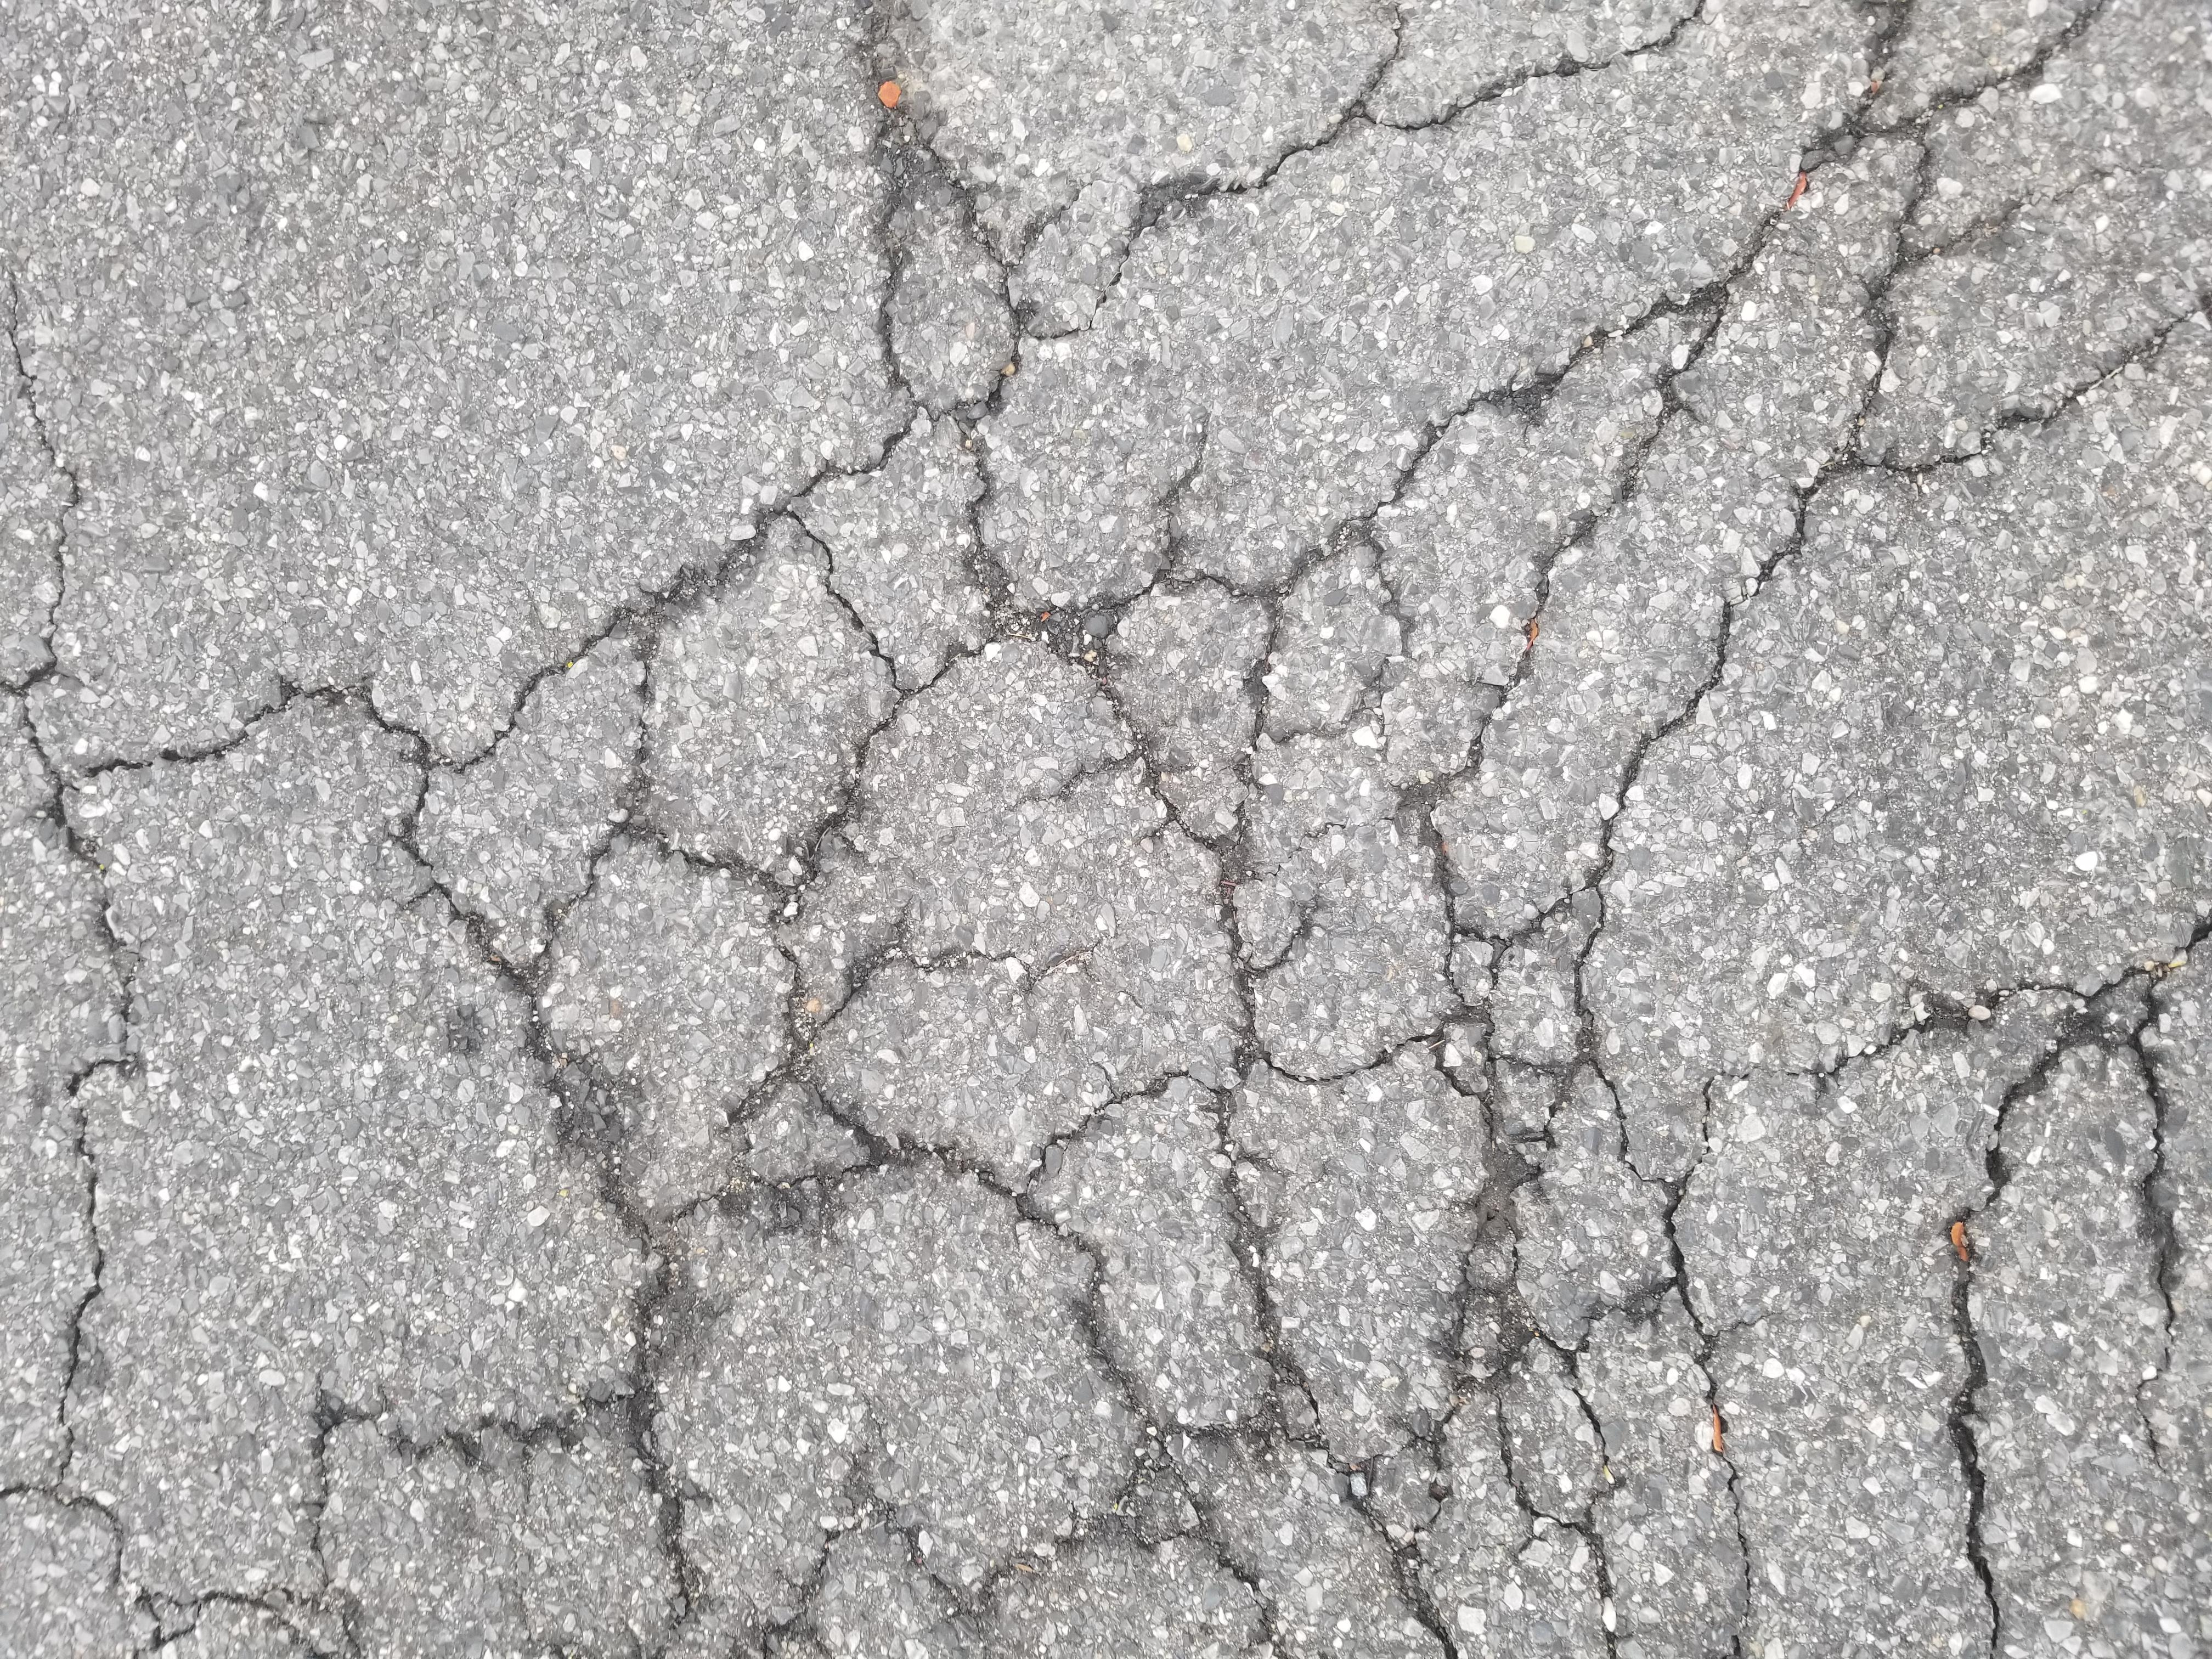alligator-crack: (0, 9, 2212, 1647)
